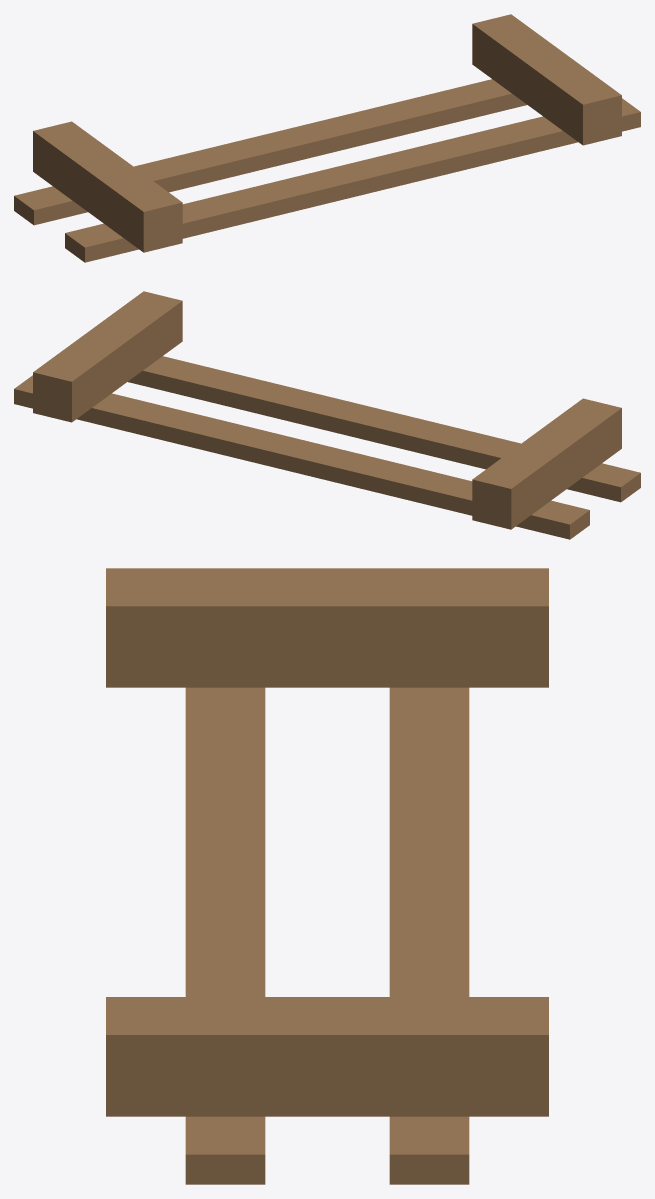
File: fence-plank.obj
The picture shows the model from 3 angles, top to bottom: view 1: azimuth 30°, elevation 25°; view 2: azimuth 150°, elevation 25°; view 3: azimuth 270°, elevation 25°; orthographic projection. The views are drawn at different scales.
Parts seen in each view (by area): view 1: fence-plank; view 2: fence-plank; view 3: fence-plank.
Part boxes in pixels (box(x1,y1,x2,y2)): fence-plank: box(14, 14, 640, 262); fence-plank: box(14, 291, 640, 539); fence-plank: box(106, 568, 548, 1184).
Bounding box in the file's own units: 122 × 11.67 × 42.
